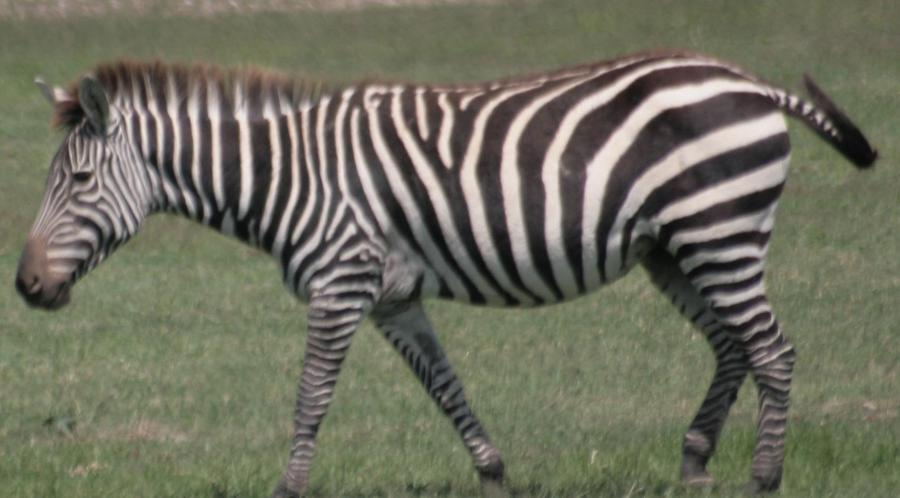zebra_plains: (247, 50, 819, 318)
